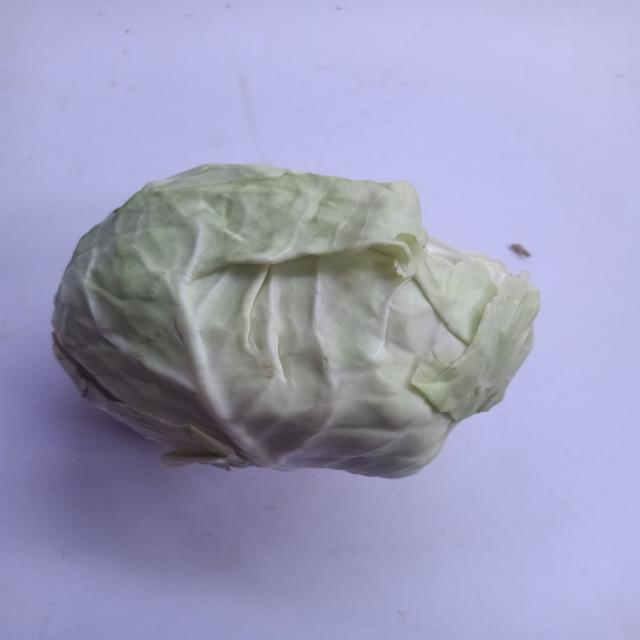Cabbage: (41, 159, 552, 503)
